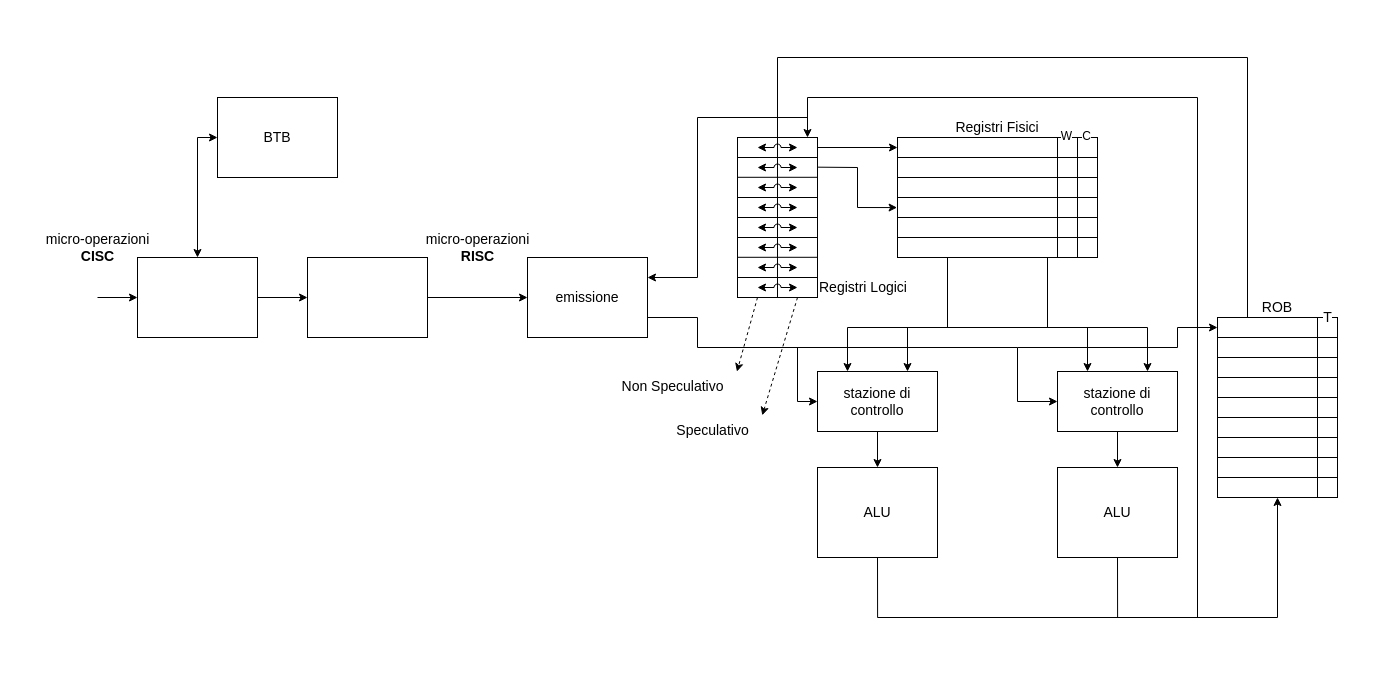
The diagram is 1394 pixels wide and 674 high, and some of its shapes have lost their labels. Here are the shapes that lost their labels. From the top down, the centre of each, then its label:
At (x=197, y=297): "fetch".
At (x=367, y=297): "decode".
